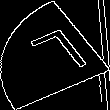L_SE: (19, 25, 91, 85)
